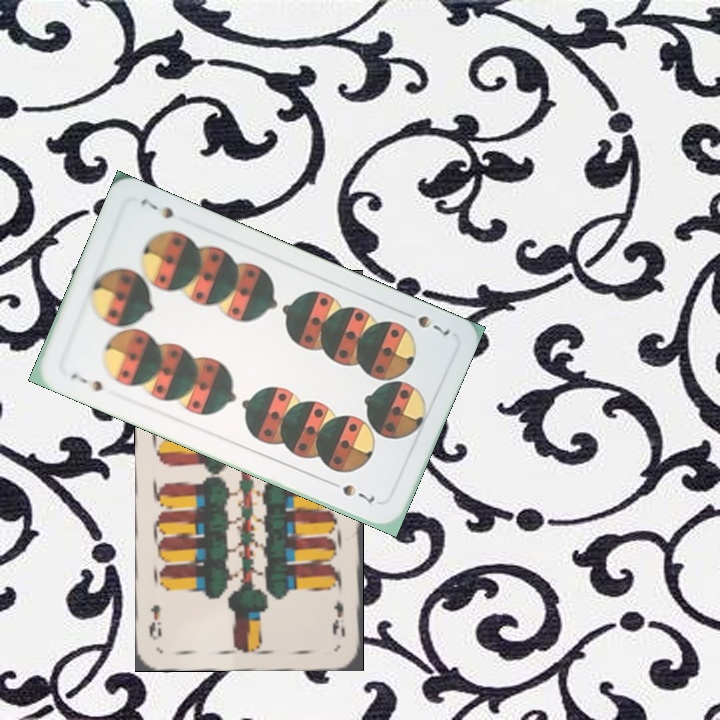E9: (329, 595, 348, 639)
S7: (399, 307, 453, 338), (66, 369, 105, 395)
